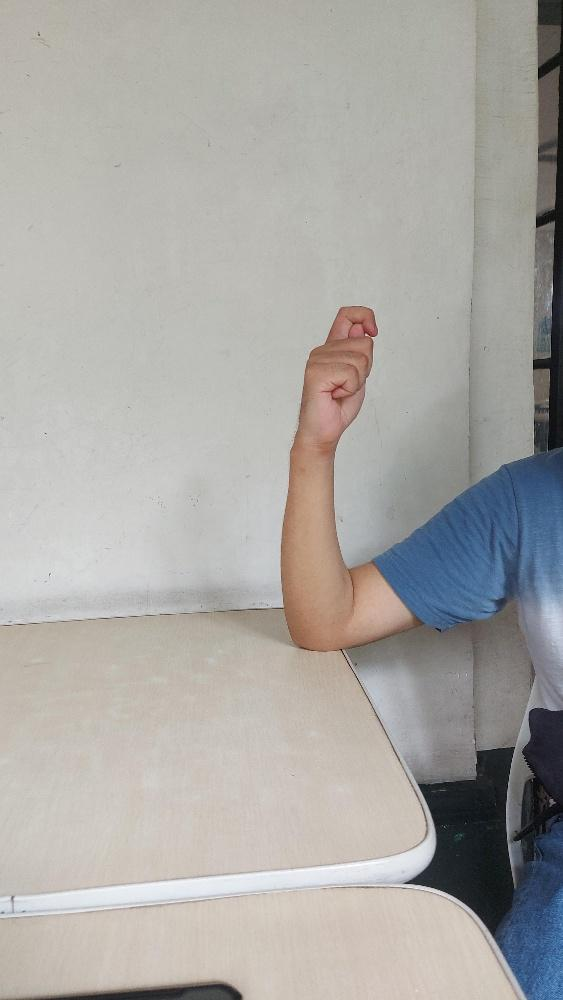t: (296, 304, 377, 442)
